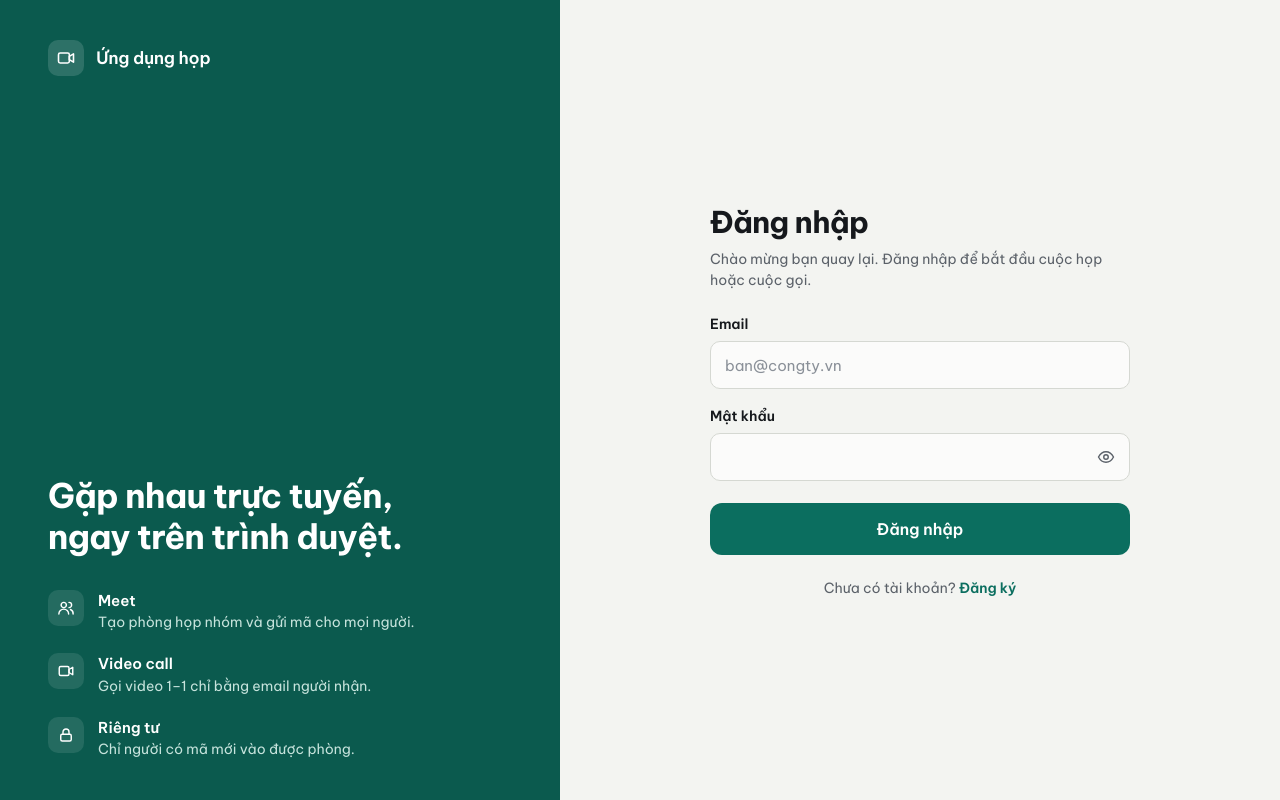
Scenario: đăng nhập › sai mật khẩu thì hiện thông báo từ BE
The width and height of the screenshot is (1280, 800).
Type "an@congty.vn" into the field labelled "Email" at (920, 365), box [710,341,1130,389]
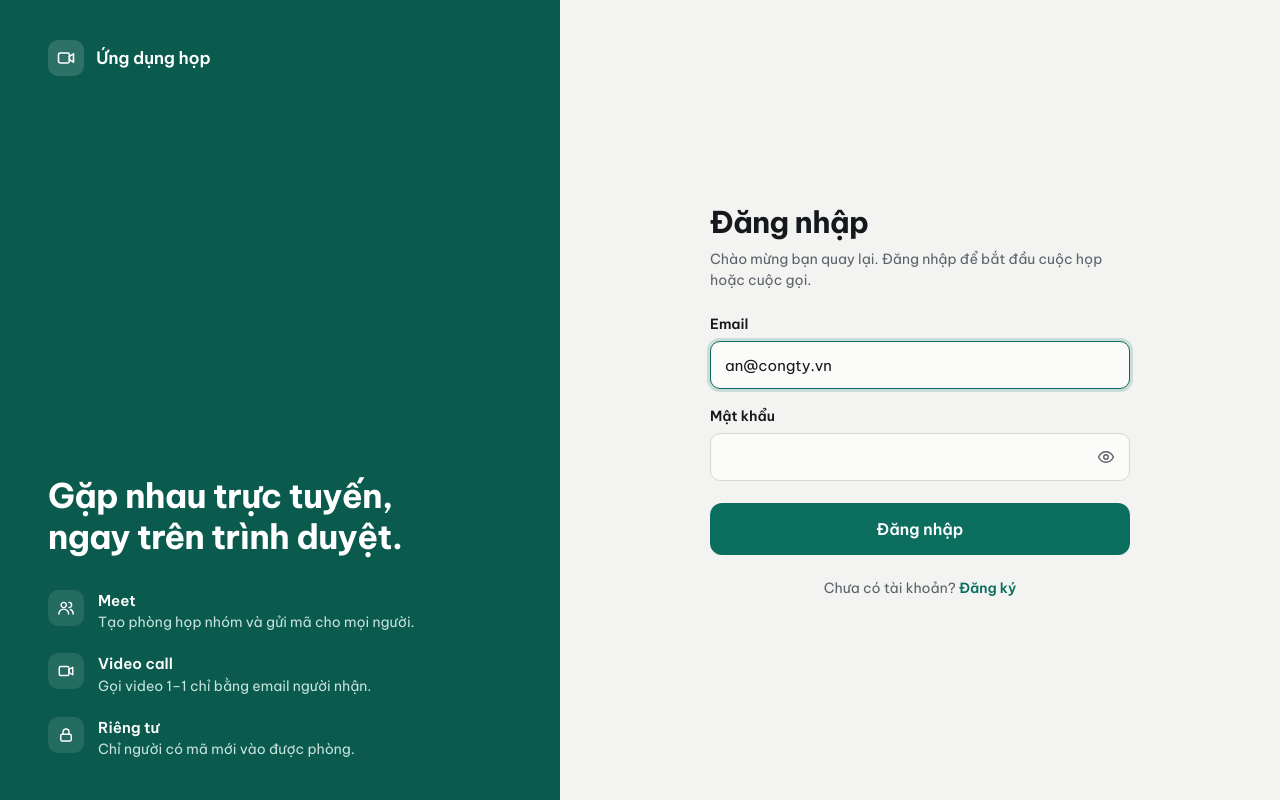
Type "sai12345" into the password field labelled "Mật khẩu" at (920, 457), box [710,433,1130,481]
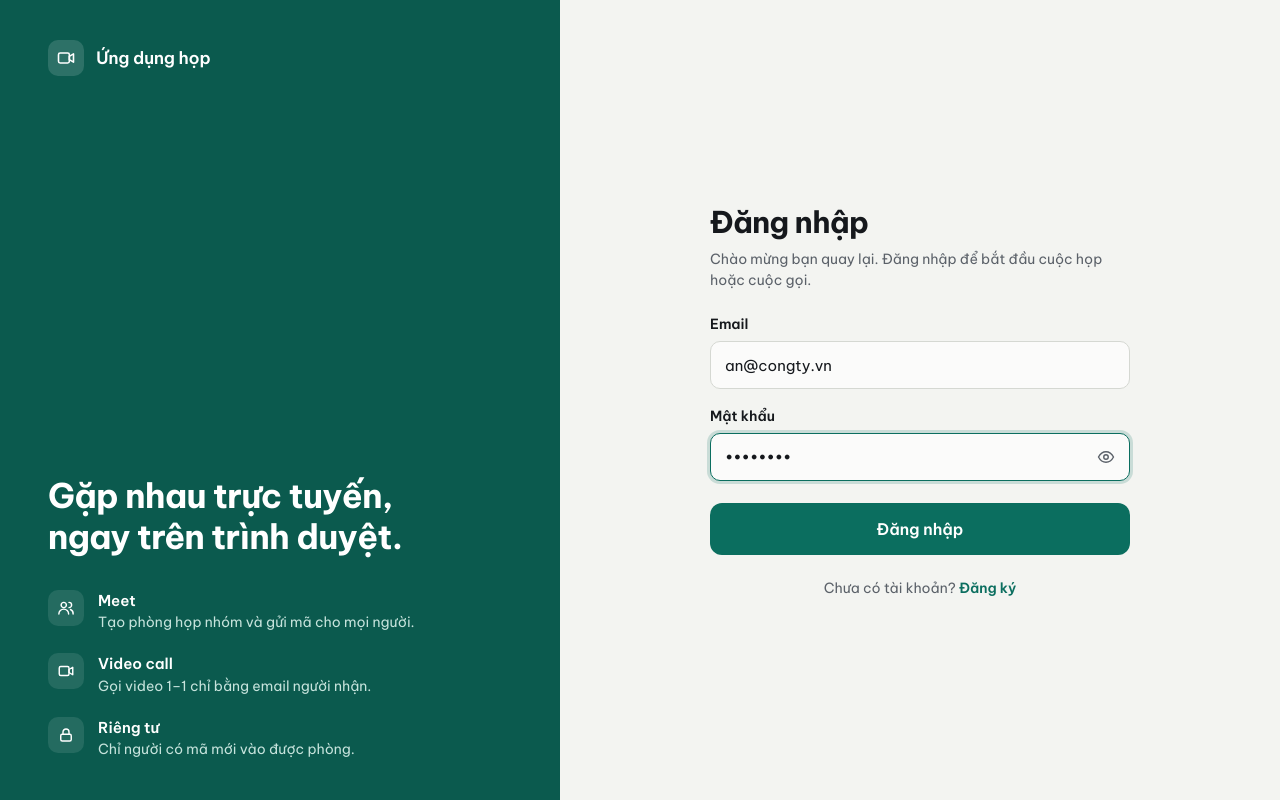
Click the button "Đăng nhập" at (920, 529), box [710,503,1130,555]
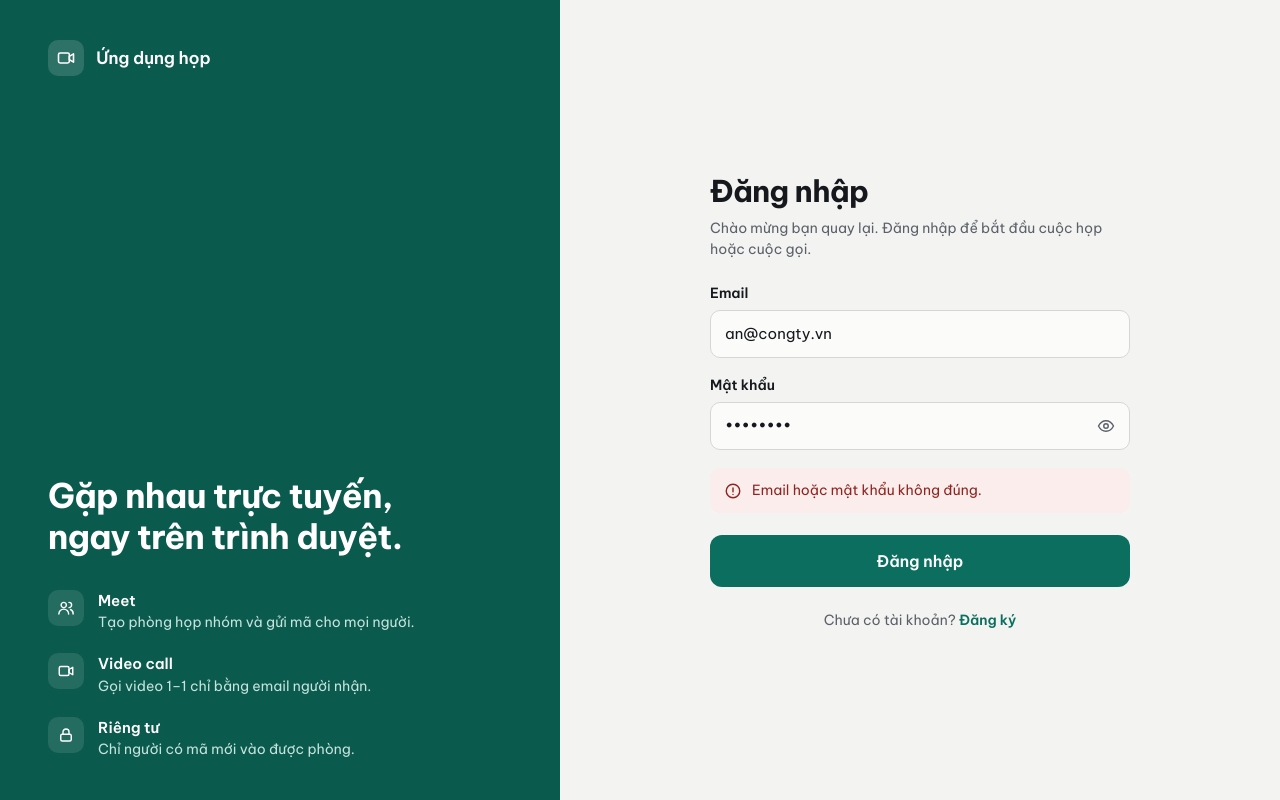
expect the message reads "Email hoặc mật khẩu không đúng.": met, box [752,480,982,498]
